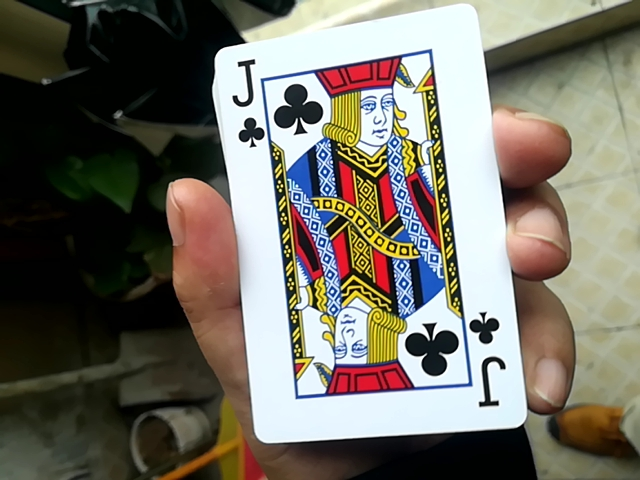mh j: (202, 0, 529, 436)
